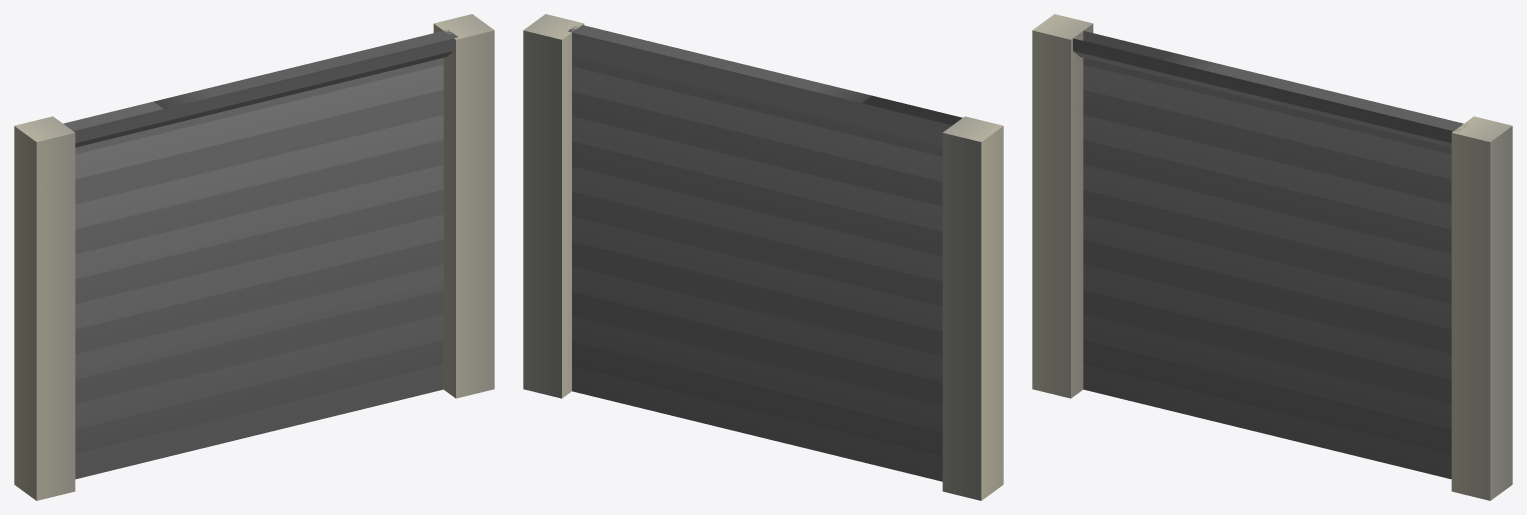
The model's file is B02_volet_1.fbx.
The picture shows the model from 3 angles, left to right: view 1: azimuth 30°, elevation 25°; view 2: azimuth 150°, elevation 25°; view 3: azimuth 330°, elevation 25°; orthographic projection.
Visible parts, largest first — view 1: B02_volet_1; view 2: B02_volet_1; view 3: B02_volet_1.
Part boxes in pixels (bbox=[...]): B02_volet_1: bbox=[14, 14, 494, 500]; B02_volet_1: bbox=[523, 14, 1003, 500]; B02_volet_1: bbox=[1032, 14, 1512, 500].
Bounding box in the file's own units: 541 × 405 × 45.84.
